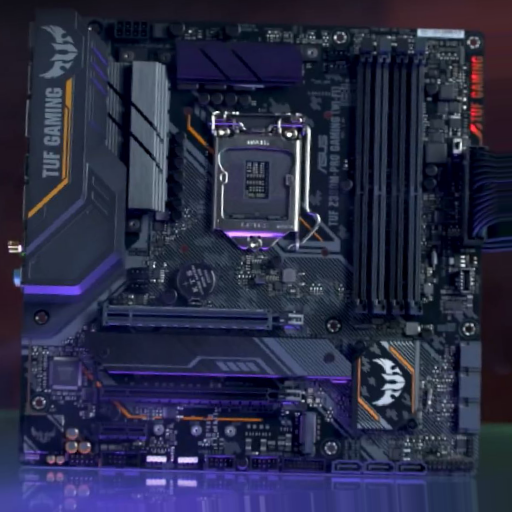CPU: (212, 111, 303, 253)
GPU: (101, 382, 309, 412), (102, 304, 306, 334)
MOTHERBOARD: (17, 22, 486, 478)
RAM: (352, 37, 424, 318)
SSD: (297, 410, 321, 455)
